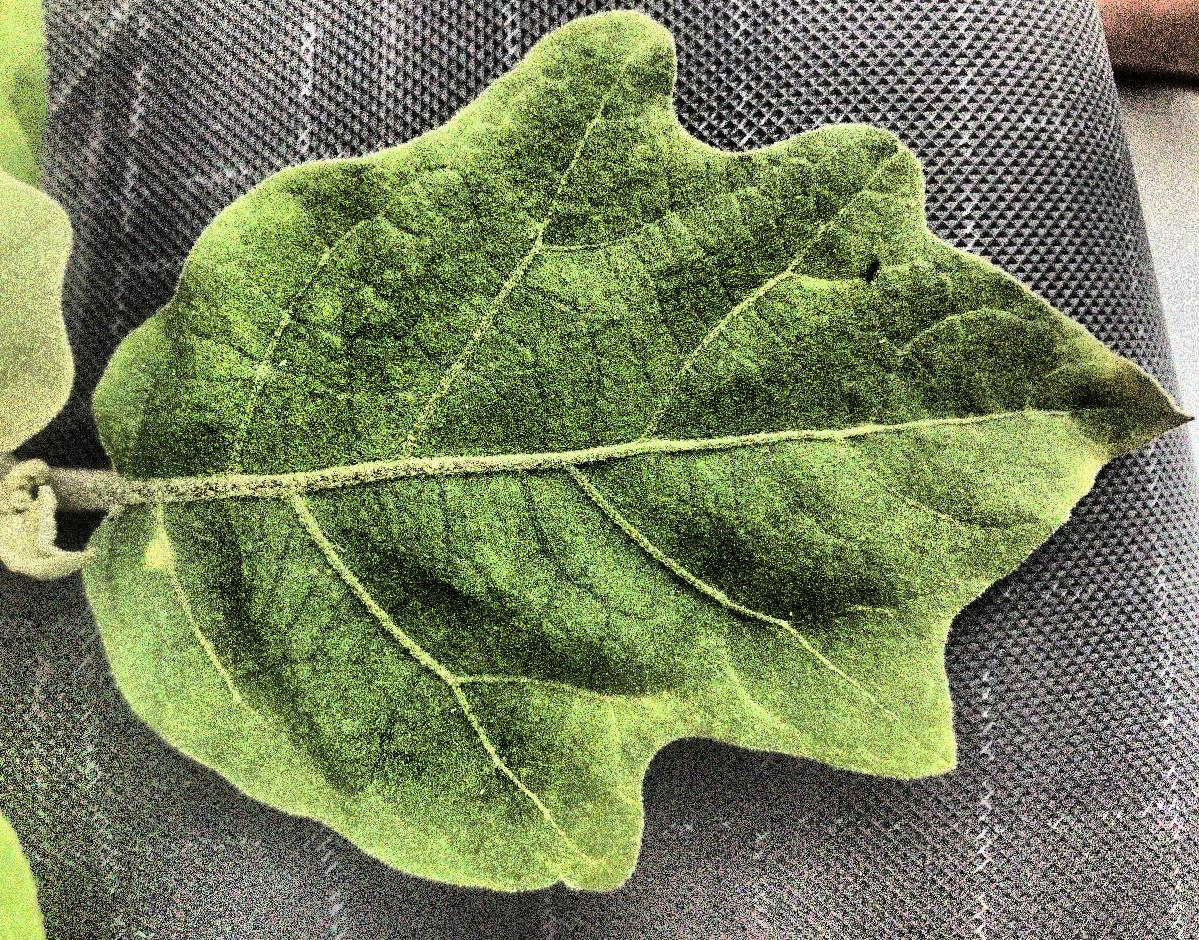HEALTHY: (1, 0, 1199, 940)
